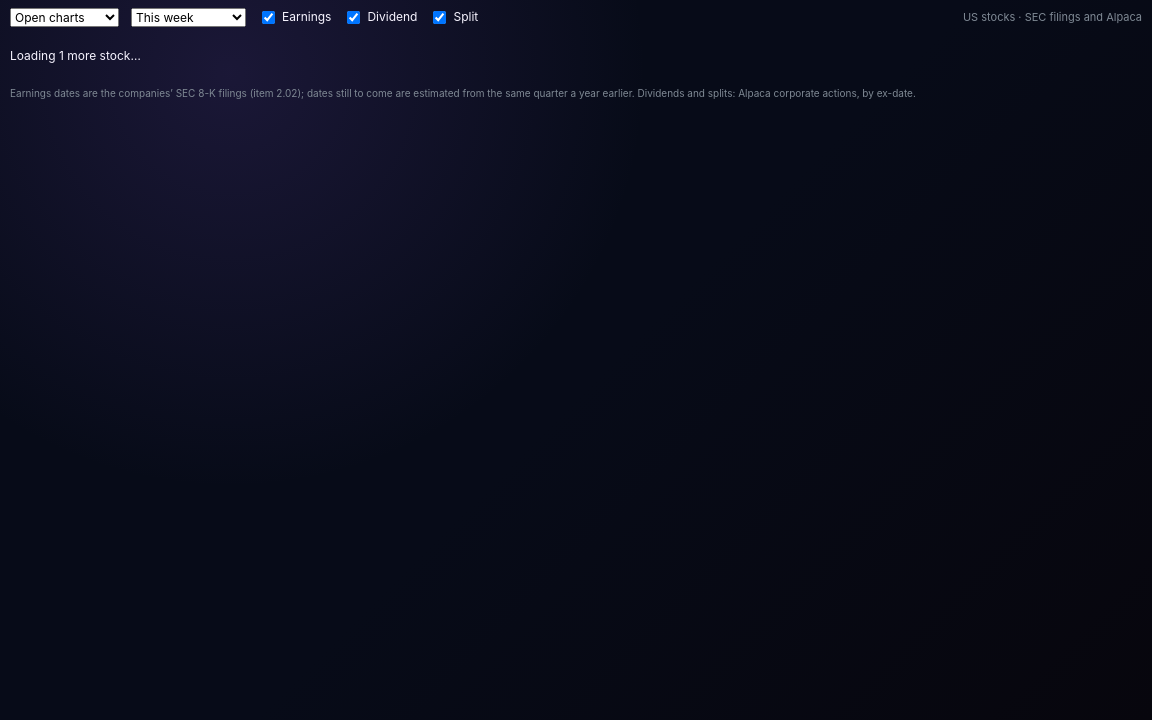
Test case: earnings and dividends calendar (TVP-10.1) › switches to a watchlist’s stocks and filters by kind
Select "Watchlist: Tech" in the dropdown named "Stocks" at (64, 18), box [10,8,119,27]
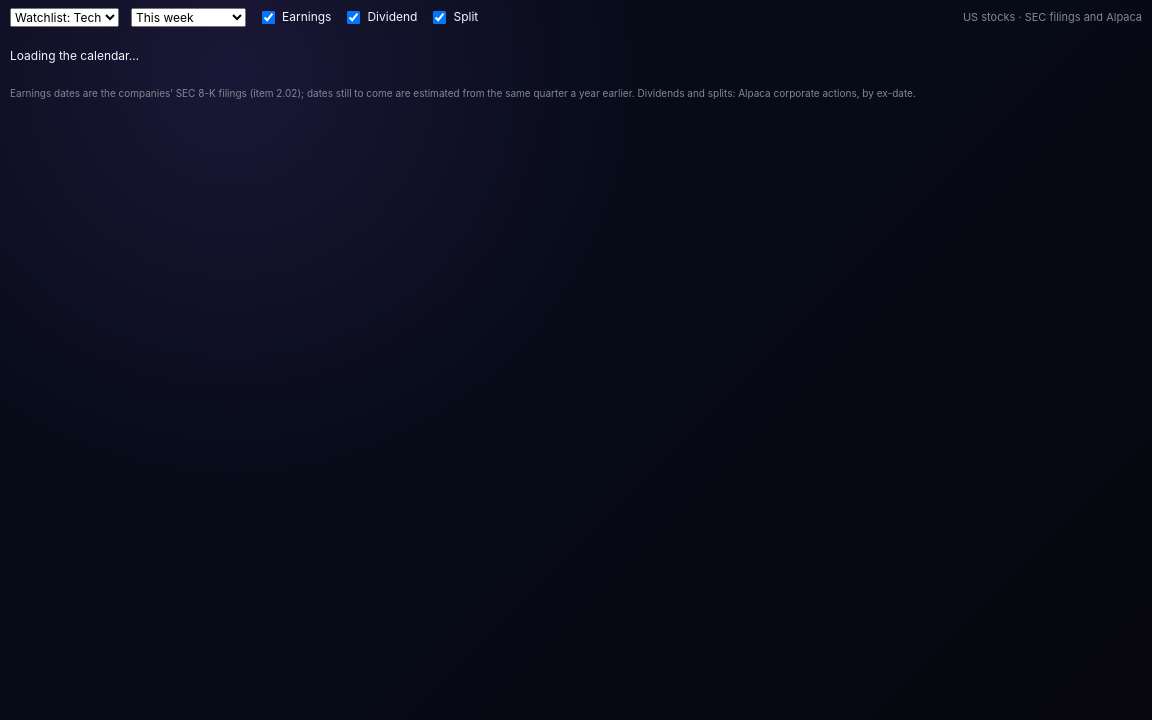
Click the checkbox labelled "Split" at (440, 18), box [433,11,446,24]
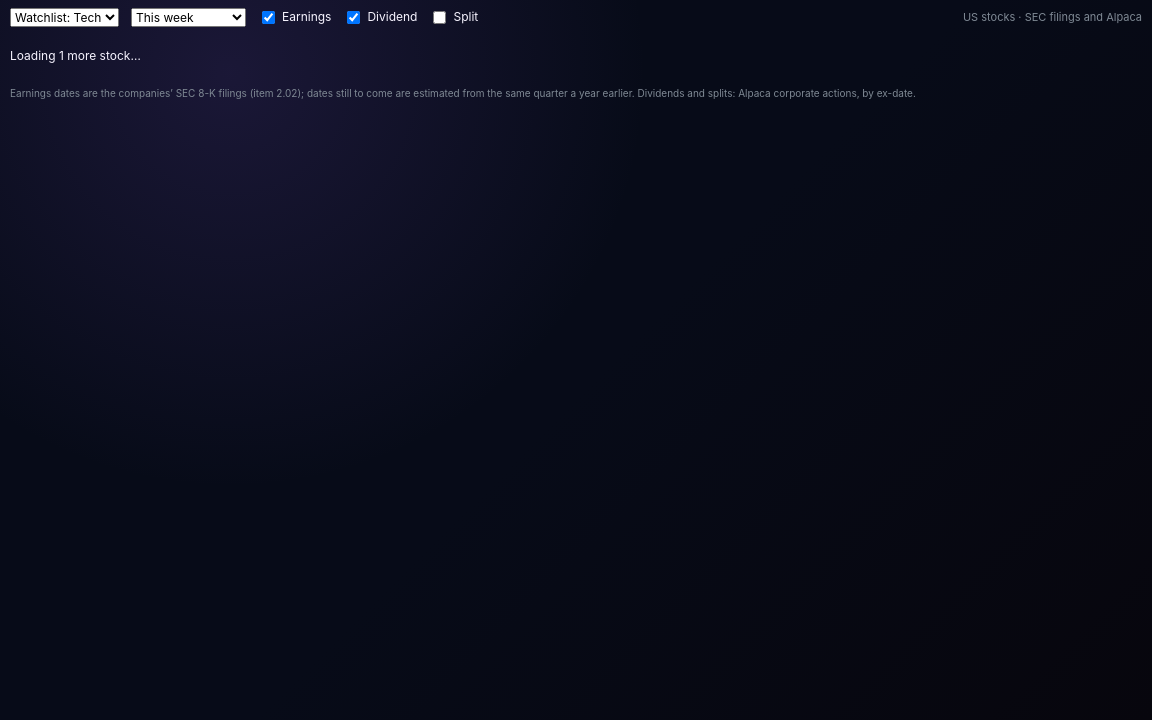
Now the text "Loading 1 more stock…" is shown, box [10,48,141,63]
